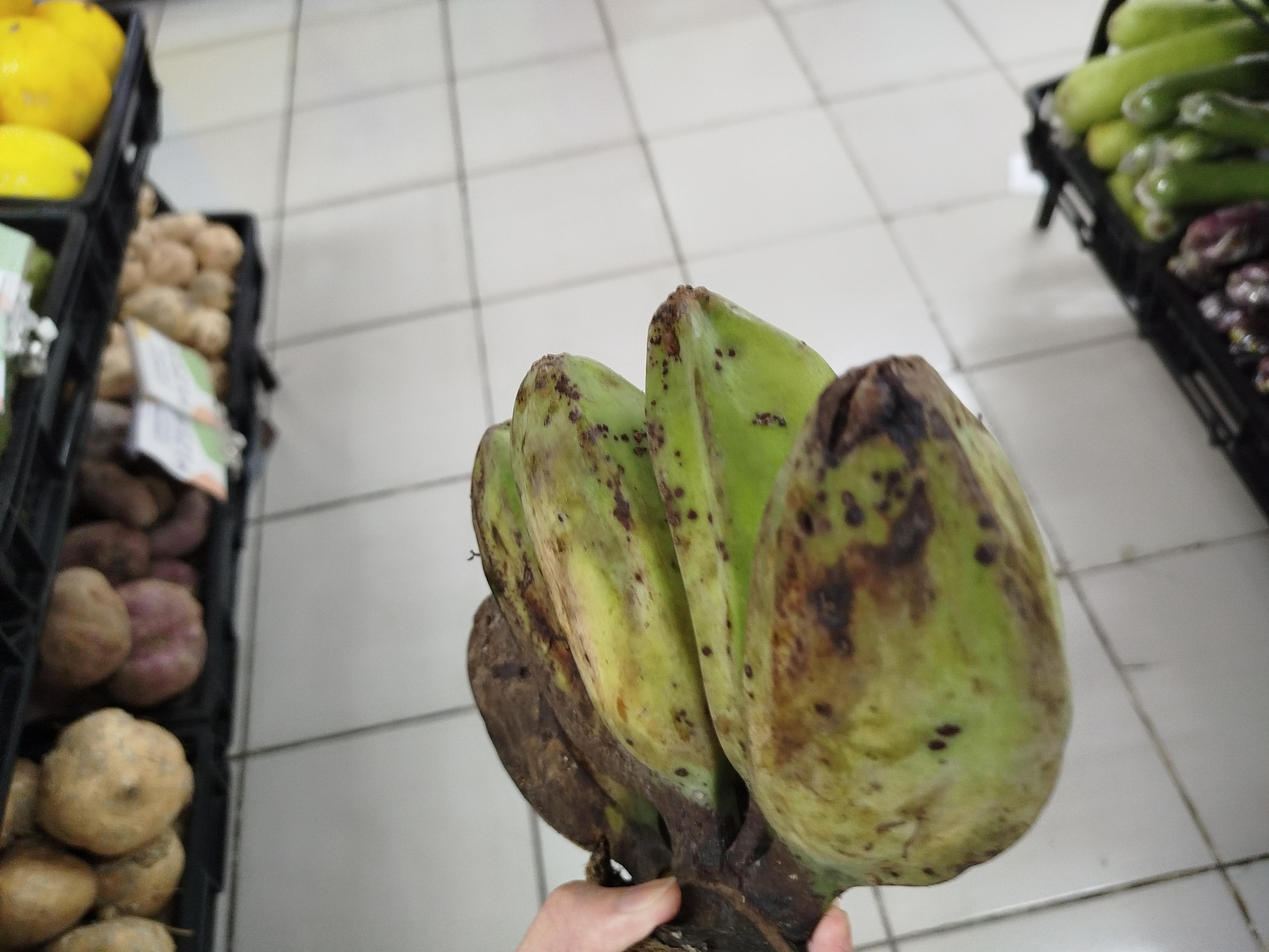underripe: (468, 286, 1071, 890)
